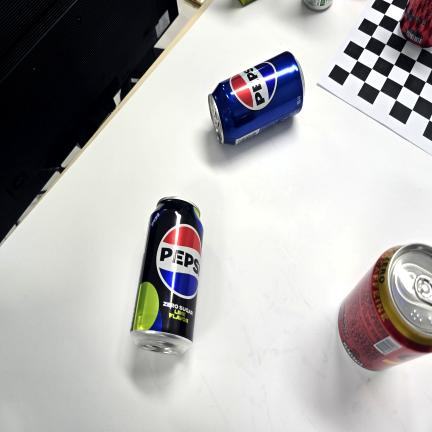can_pepsi: (208, 51, 306, 147)
can_pepsi_zero: (130, 196, 204, 355)
